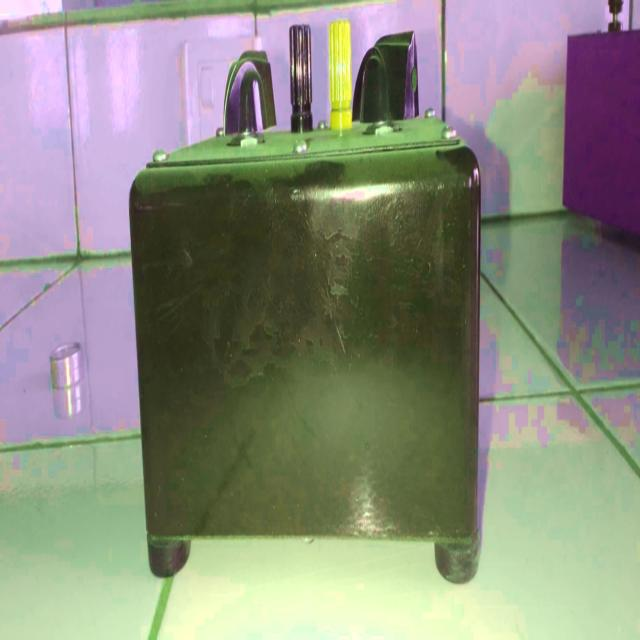Decade Capacitance Box: (128, 11, 495, 586)
